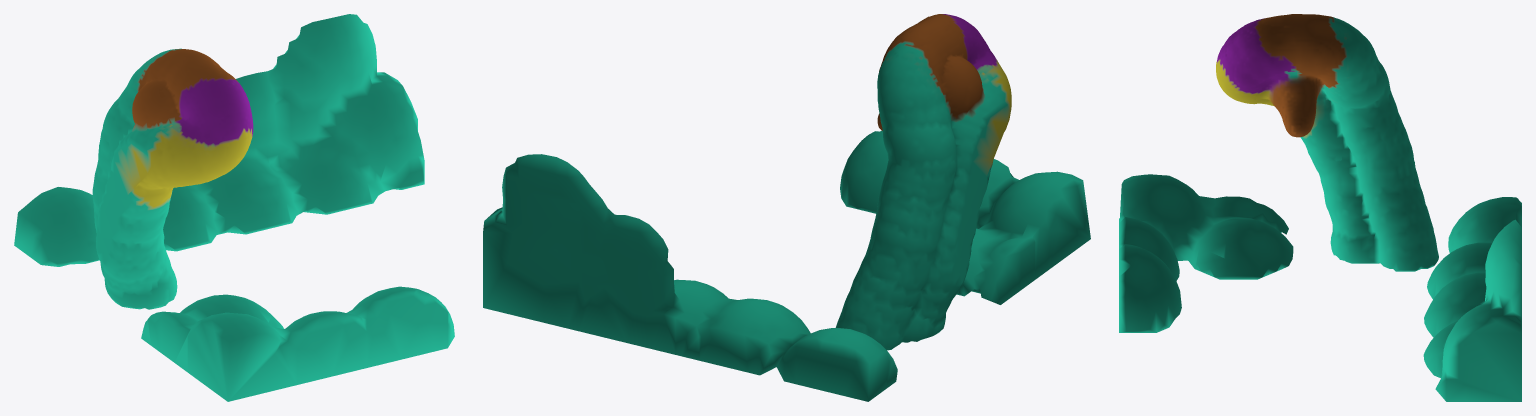
The picture shows the model from 3 angles, left to right: view 1: azimuth 30°, elevation 25°; view 2: azimuth 150°, elevation 25°; view 3: azimuth 270°, elevation 25°; orthographic projection. The views are drawn at different scales.
Parts seen in each view (by area): view 1: 1_Node; view 2: 1_Node; view 3: 1_Node.
Part boxes in pixels (x1,y1,x2,y2): 1_Node: (14,14,454,401); 1_Node: (483,14,1090,401); 1_Node: (1119,14,1521,401).
Size of the model in its own units: 104858 by 69967 by 104858.
